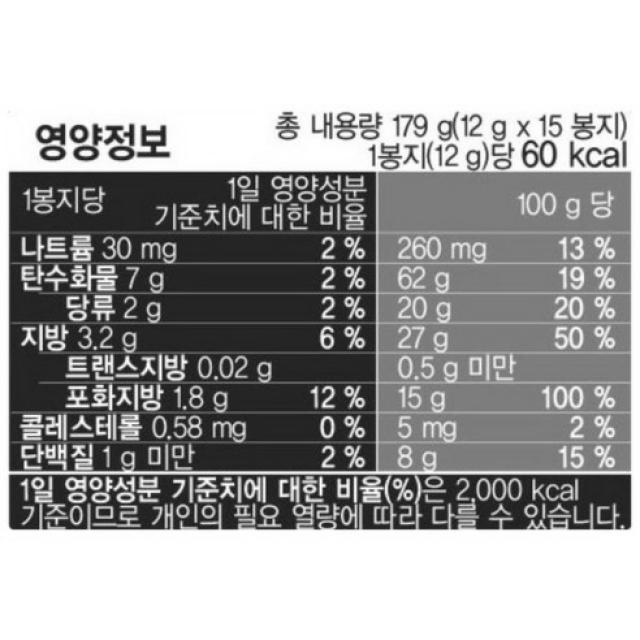Nutrition Label: (0, 102, 640, 549)
